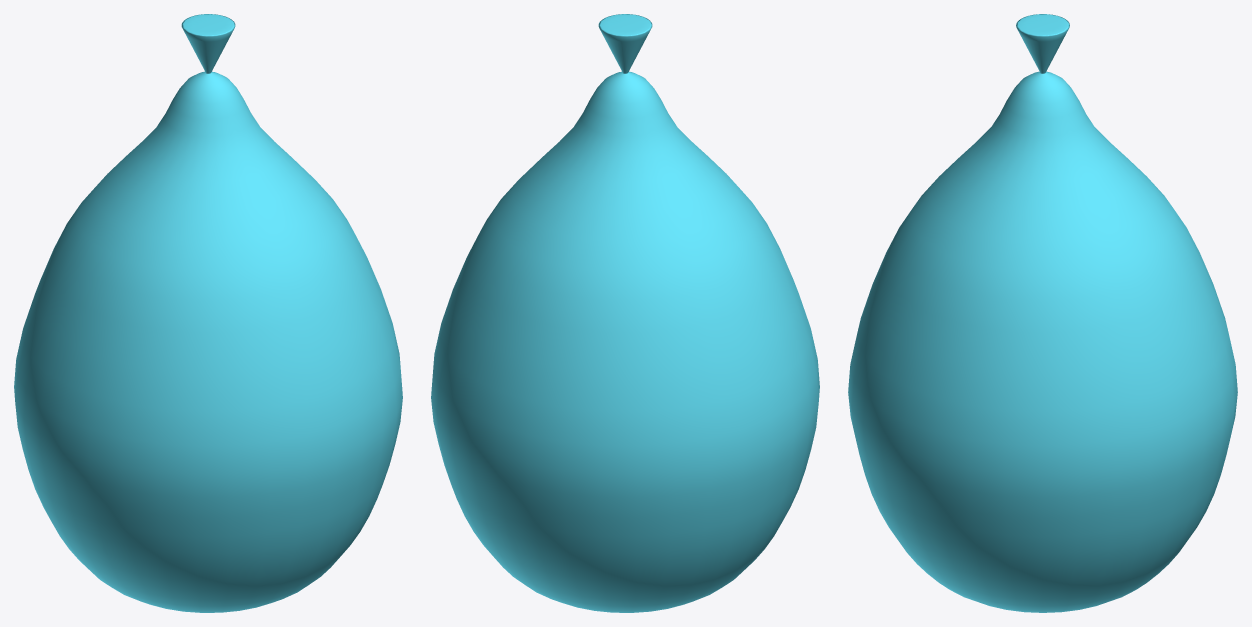
Rendered from mizuhuusenn3.fbx.
3 renders of one model, left to right at view 1: azimuth 30°, elevation 25°; view 2: azimuth 150°, elevation 25°; view 3: azimuth 270°, elevation 25°, orthographic.
Parts seen in each view (by area): view 1: pSphere1; view 2: pSphere1; view 3: pSphere1.
Boxes of the visible parts, x1,y1,x2,y2 form: pSphere1: [14, 14, 402, 612]; pSphere1: [431, 14, 819, 612]; pSphere1: [848, 14, 1237, 612].
Bounding box in the file's own units: 197 × 317 × 197.
1 material, 1 textured.
